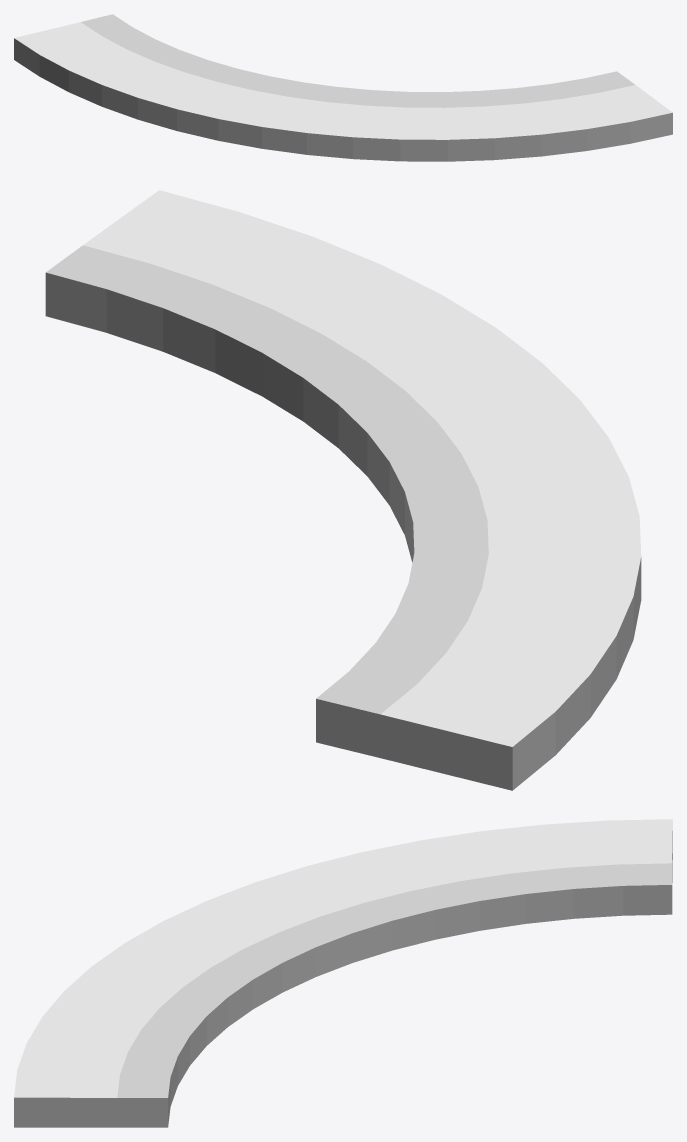
File: Turn_90d_40x40x2.fbx
3 views of the same model, one above another, from view 1: azimuth 30°, elevation 25°; view 2: azimuth 150°, elevation 25°; view 3: azimuth 270°, elevation 25° (orthographic). The views are drawn at different scales.
Parts seen in each view (by area): view 1: Turn_90d_40x40x2; view 2: Turn_90d_40x40x2; view 3: Turn_90d_40x40x2.
Boxes of the visible parts, <box> form: Turn_90d_40x40x2: <box>14,14,672,161</box>; Turn_90d_40x40x2: <box>45,190,641,790</box>; Turn_90d_40x40x2: <box>14,819,672,1127</box>.
Bounding box in the file's own units: 40.04 × 2 × 40.
